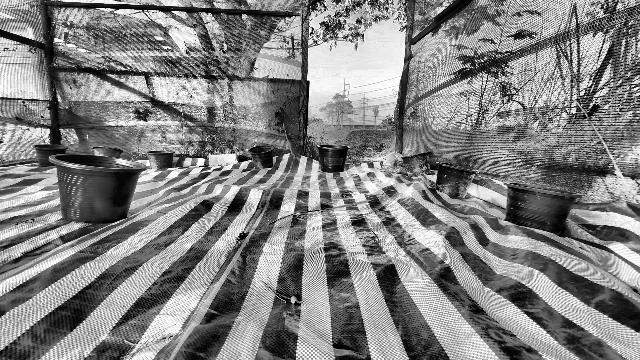pot: (48, 152, 146, 223), (505, 181, 581, 235), (435, 160, 479, 199), (315, 144, 351, 172), (401, 151, 433, 176), (34, 143, 68, 166), (248, 145, 274, 169), (147, 149, 175, 169), (91, 145, 123, 159)
